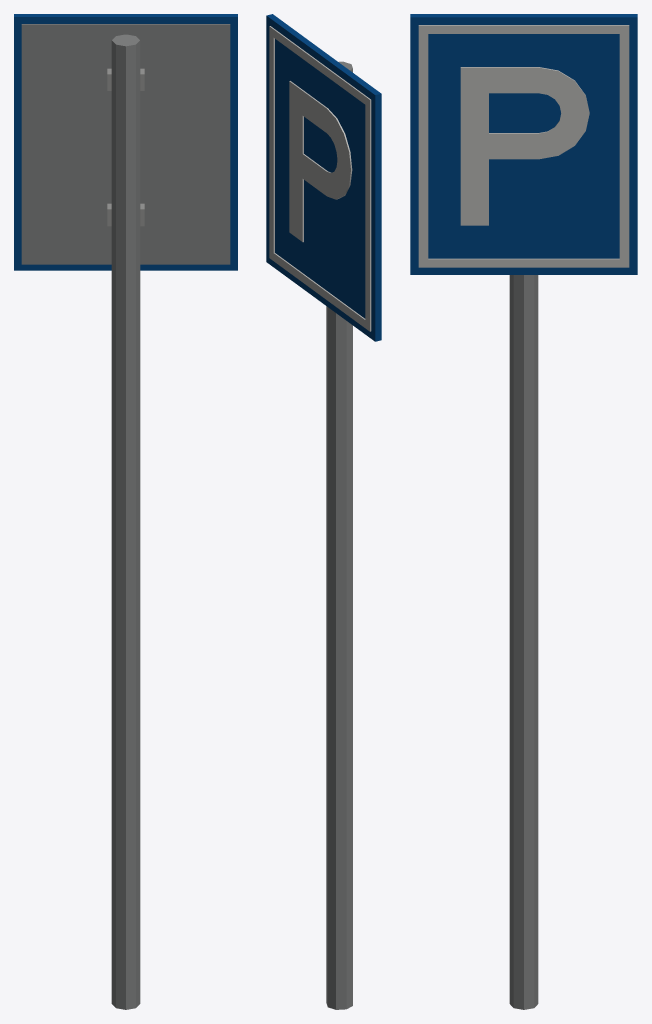
File: SM_Prop_road_laybysign_0.glb
3 renders of one model, left to right at view 1: azimuth 90°, elevation 25°; view 2: azimuth 210°, elevation 25°; view 3: azimuth 270°, elevation 25°, orthographic. The views are drawn at different scales.
Parts seen in each view (by area): view 1: SM_Prop_road_laybysign_0; view 2: SM_Prop_road_laybysign_0; view 3: SM_Prop_road_laybysign_0.
Part boxes in pixels (x1=…): SM_Prop_road_laybysign_0: x1=14, y1=14, x2=237, y2=1009; SM_Prop_road_laybysign_0: x1=266, y1=14, x2=381, y2=1009; SM_Prop_road_laybysign_0: x1=410, y1=14, x2=637, y2=1009.
Bounding box in the file's own units: 0.102 × 2.9 × 0.6.
